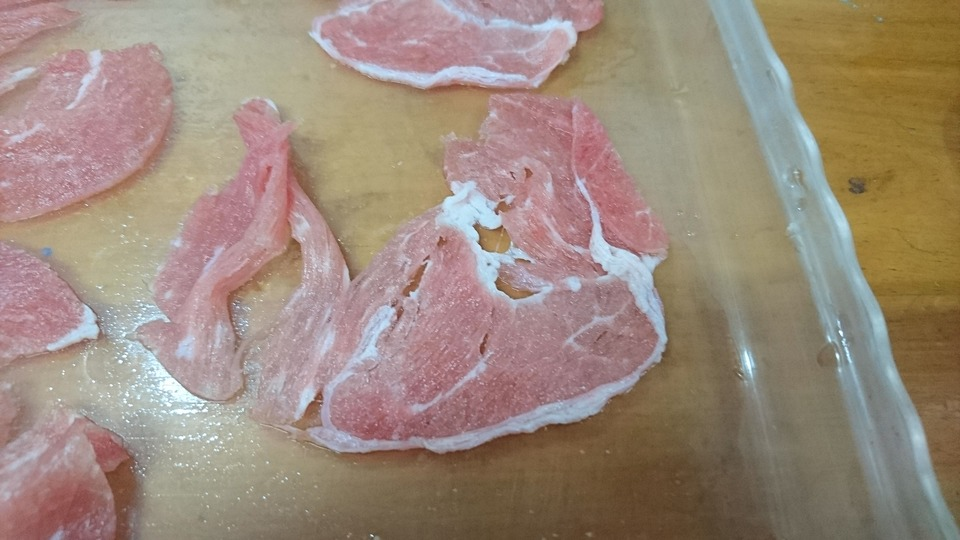restructured meat: (163, 113, 694, 461), (2, 264, 133, 540), (2, 40, 171, 215), (294, 4, 603, 96)
